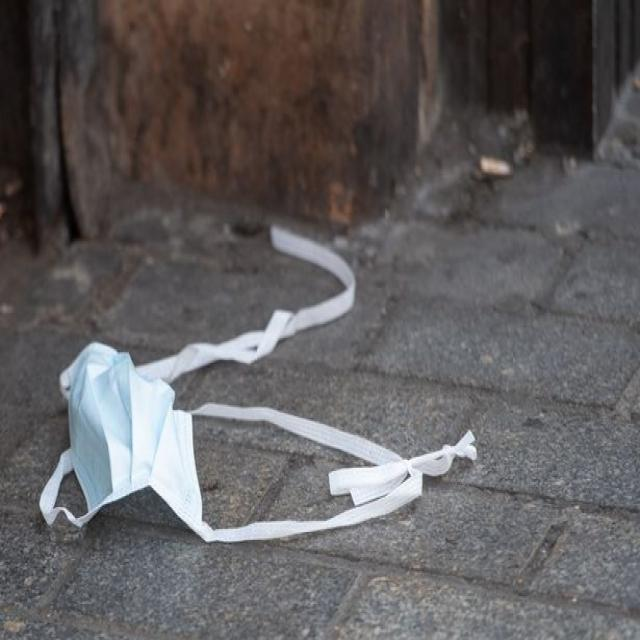non-organic waste: (35, 213, 434, 555)
